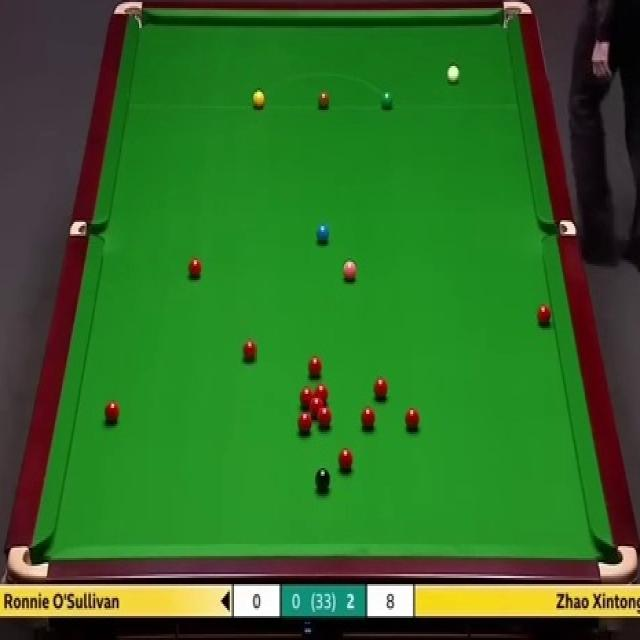black-ball: (314, 467, 330, 492)
blue-ball: (316, 222, 330, 247)
brown-ball: (317, 90, 330, 109)
green-ball: (381, 90, 394, 109)
pink-ball: (342, 260, 358, 282)
red-ball: (402, 406, 422, 434), (372, 374, 388, 403), (360, 406, 376, 434), (241, 338, 258, 364), (339, 445, 354, 474), (104, 400, 120, 426), (297, 412, 312, 436), (537, 304, 551, 329), (314, 383, 329, 406), (308, 356, 323, 379), (300, 386, 314, 410), (189, 256, 202, 281), (318, 406, 332, 429), (310, 398, 324, 418)
white-ball: (446, 64, 461, 85)
yellow-ball: (252, 90, 265, 109)
